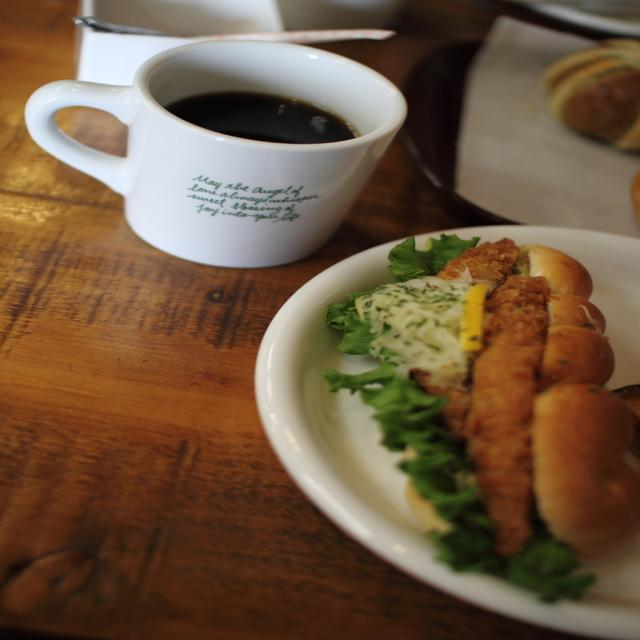Coffee: (168, 89, 360, 143)
